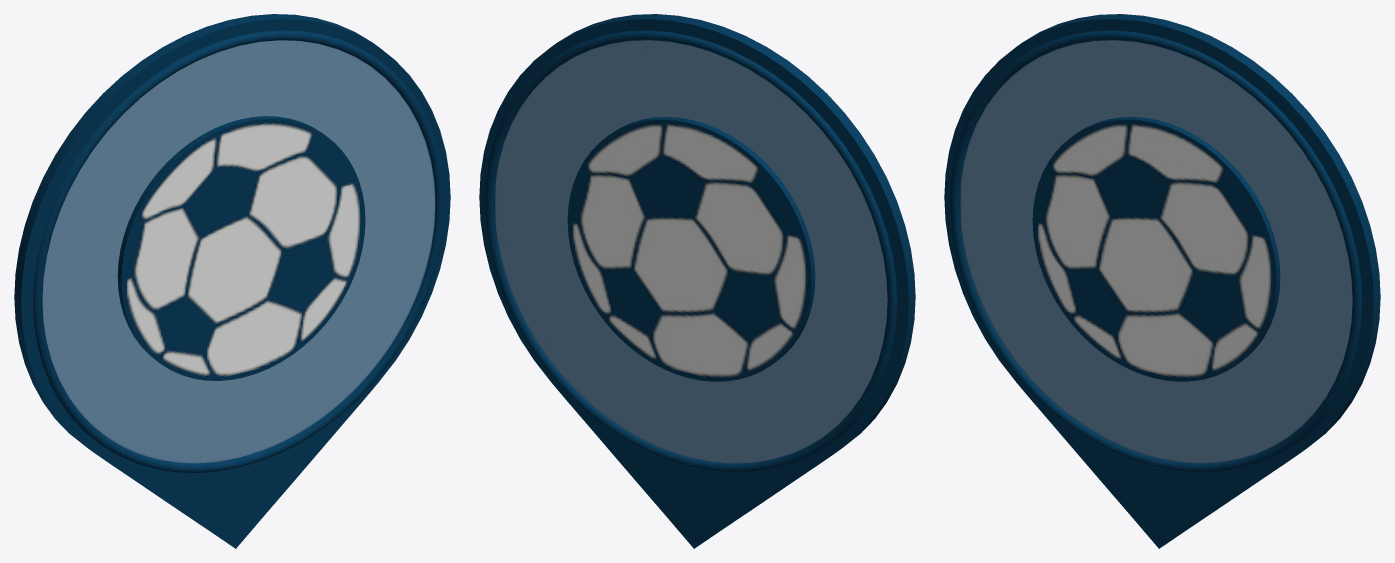
The model's file is Icon_13.obj.
3 renders of one model, left to right at view 1: azimuth 30°, elevation 25°; view 2: azimuth 150°, elevation 25°; view 3: azimuth 330°, elevation 25°, orthographic.
Visible parts, largest first — view 1: Icon__13; view 2: Icon__13; view 3: Icon__13.
Part boxes in pixels (x1=…): Icon__13: x1=14, y1=14, x2=450, y2=548; Icon__13: x1=479, y1=14, x2=915, y2=548; Icon__13: x1=944, y1=14, x2=1380, y2=548.
Bounding box in the file's own units: 20.03 × 23.35 × 1.52.
Materials: 1 (1 with a texture image).
